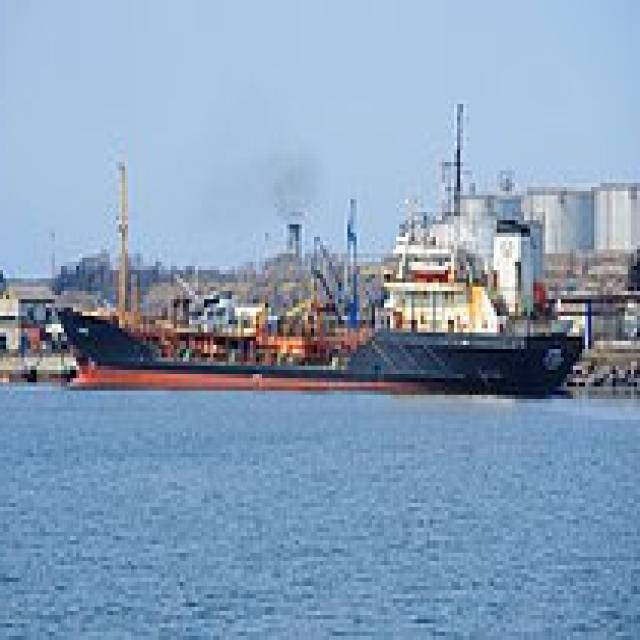Tanker: (61, 204, 588, 386)
